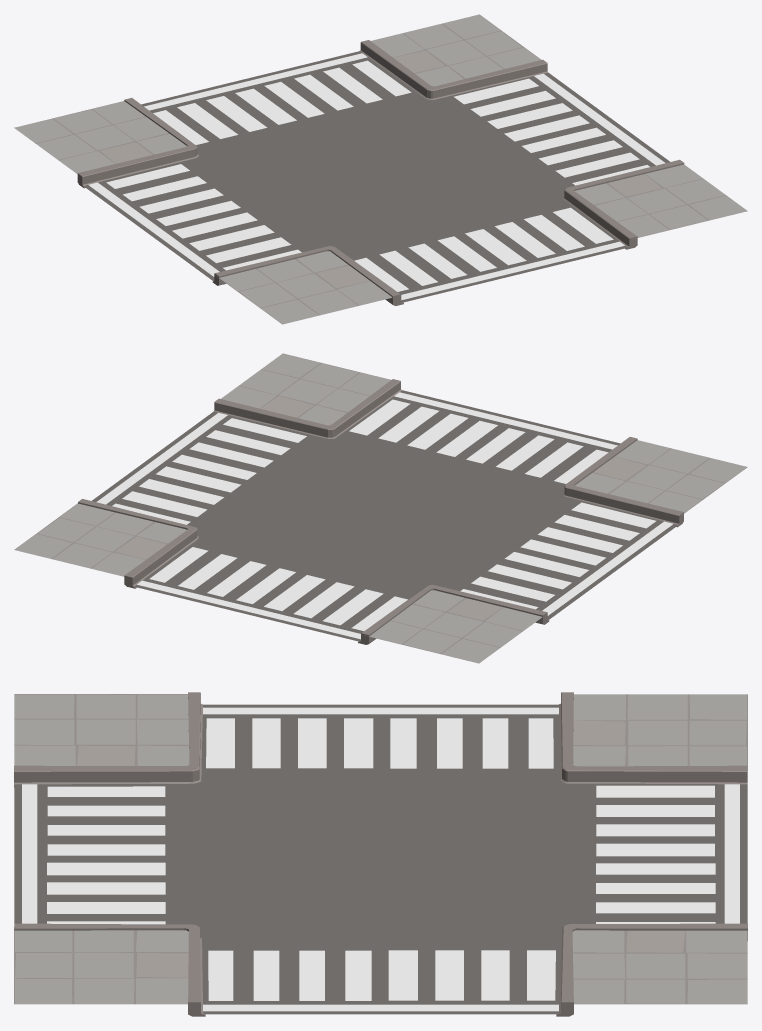
File: Road_06.fbx
The picture shows the model from 3 angles, top to bottom: view 1: azimuth 30°, elevation 25°; view 2: azimuth 150°, elevation 25°; view 3: azimuth 270°, elevation 25°; orthographic projection. The views are drawn at different scales.
Visible parts, largest first — view 1: Road_06; view 2: Road_06; view 3: Road_06.
Boxes of the visible parts, <box> form: Road_06: <box>14,14,747,324</box>; Road_06: <box>14,353,747,663</box>; Road_06: <box>14,692,747,1016</box>.
Size of the model in its own units: 24.03 by 0.5208 by 24.03.
